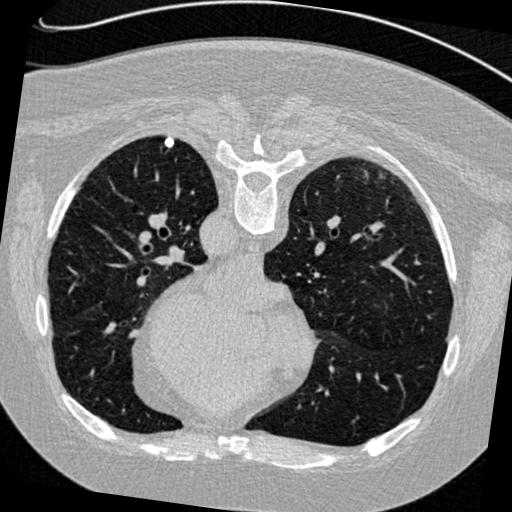nodule: (162, 135, 180, 153)
